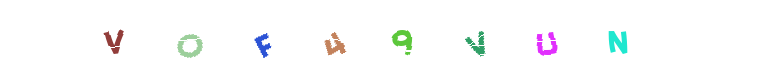4: (267, 0, 347, 80)
9: (350, 0, 430, 80)
F: (222, 0, 302, 80)
N: (578, 0, 658, 80)
O: (219, 0, 299, 80)
U: (506, 0, 586, 80)
V: (74, 0, 154, 80), (394, 0, 474, 80)
